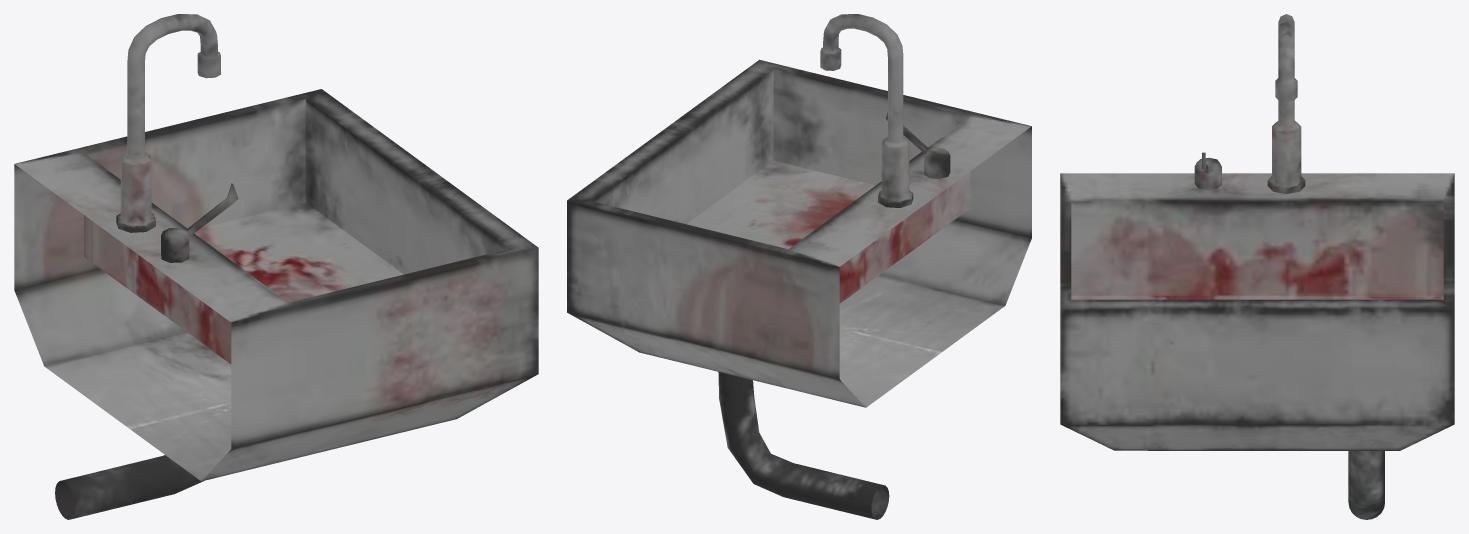
The model's file is med_sink.glb.
The picture shows the model from 3 angles, left to right: view 1: azimuth 30°, elevation 25°; view 2: azimuth 150°, elevation 25°; view 3: azimuth 270°, elevation 25°; orthographic projection. The views are drawn at different scales.
Visible parts, largest first — view 1: med_sink; view 2: med_sink; view 3: med_sink.
Boxes of the visible parts, x1=… form: med_sink: x1=14, y1=14, x2=538, y2=519; med_sink: x1=567, y1=14, x2=1031, y2=519; med_sink: x1=1060, y1=14, x2=1454, y2=519.
Bounding box in the file's own units: 0.5749 × 0.9282 × 0.7027.
Materials: 1 (1 with a texture image).
